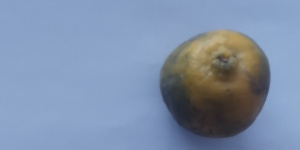BAD: (156, 28, 271, 142)
